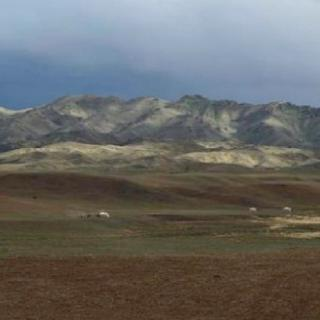Nimbostratus: (0, 0, 320, 101)
